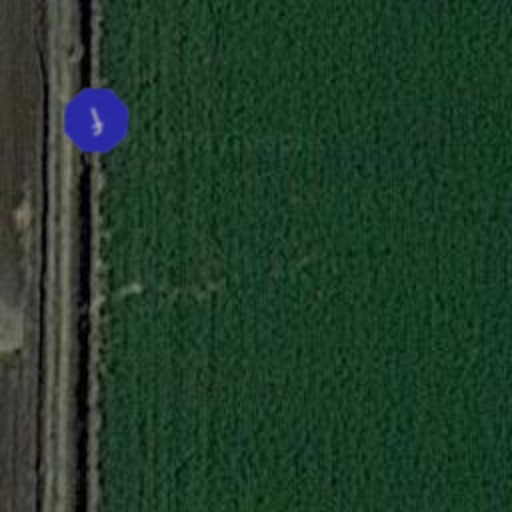octagon: (52, 76, 140, 164)
